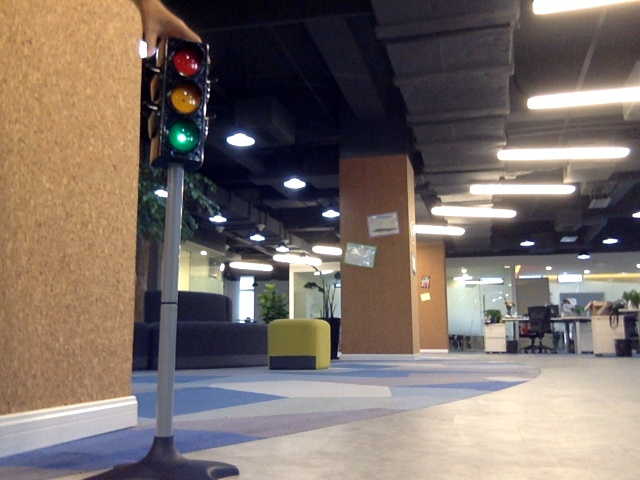green: (162, 51, 197, 153)
